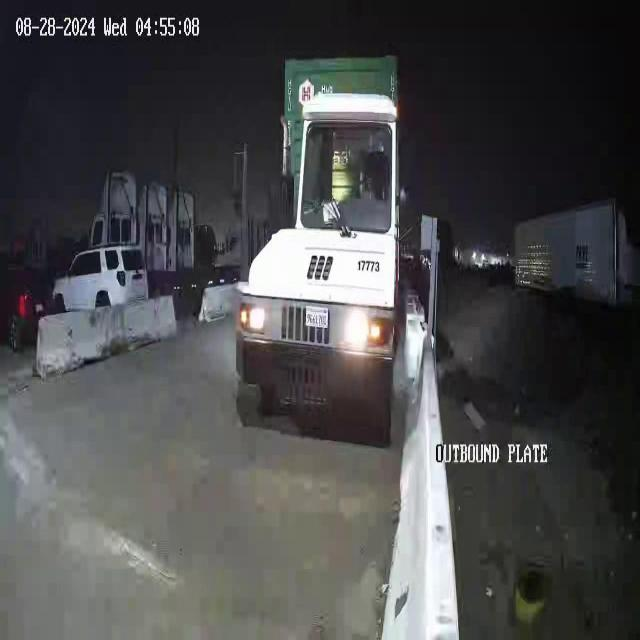TRUCK_OUT: (232, 52, 413, 448)
